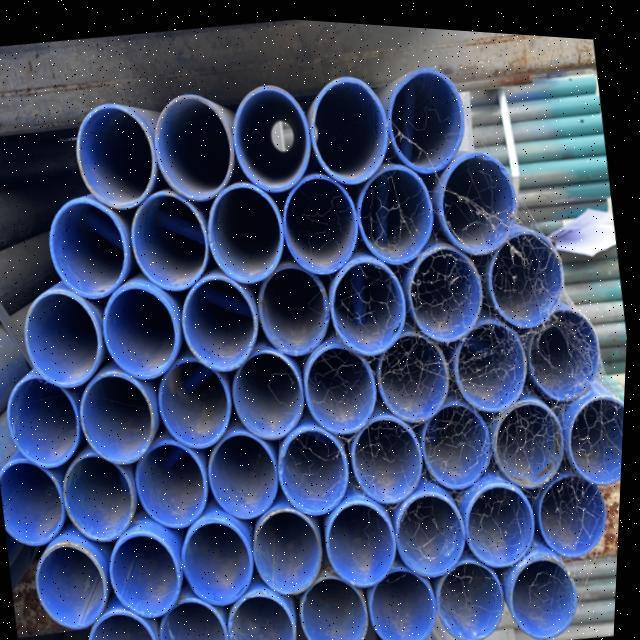pipe: (425, 132, 534, 260), (68, 90, 168, 222), (223, 73, 322, 204), (304, 60, 403, 191), (145, 82, 244, 210), (380, 50, 480, 176), (43, 188, 141, 311), (123, 180, 220, 302), (18, 280, 114, 400), (202, 171, 297, 292), (479, 218, 578, 334), (96, 270, 191, 388), (400, 234, 495, 352), (0, 364, 96, 480), (276, 164, 370, 282), (324, 244, 417, 363), (353, 153, 447, 270), (75, 358, 170, 473), (176, 262, 270, 378), (152, 346, 244, 457), (300, 330, 390, 443), (227, 338, 317, 448), (179, 506, 269, 616), (58, 442, 148, 552), (106, 516, 196, 626), (462, 462, 550, 574), (30, 532, 121, 640), (130, 429, 220, 538), (252, 254, 342, 362), (273, 413, 363, 521), (523, 298, 613, 406), (248, 496, 338, 603), (203, 421, 293, 528), (346, 404, 436, 511), (449, 315, 540, 420), (322, 485, 410, 593), (488, 384, 576, 492), (392, 476, 479, 584), (418, 390, 504, 496), (505, 538, 593, 640), (535, 460, 622, 562), (374, 331, 462, 428), (432, 544, 520, 640), (0, 451, 76, 557), (558, 376, 628, 486), (294, 560, 383, 640), (369, 556, 452, 640), (226, 579, 310, 640), (158, 587, 240, 640), (88, 600, 172, 640), (474, 611, 553, 640)
